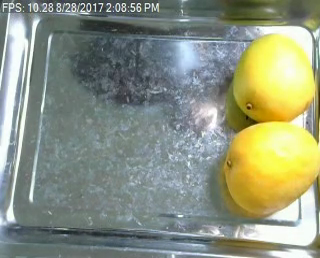Mango: (224, 122, 320, 216), (229, 33, 315, 122)
